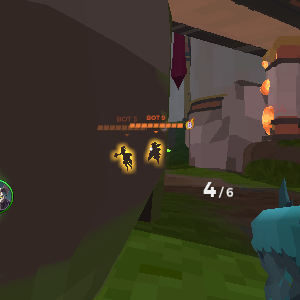model: (115, 141, 138, 177), (145, 137, 163, 166)
